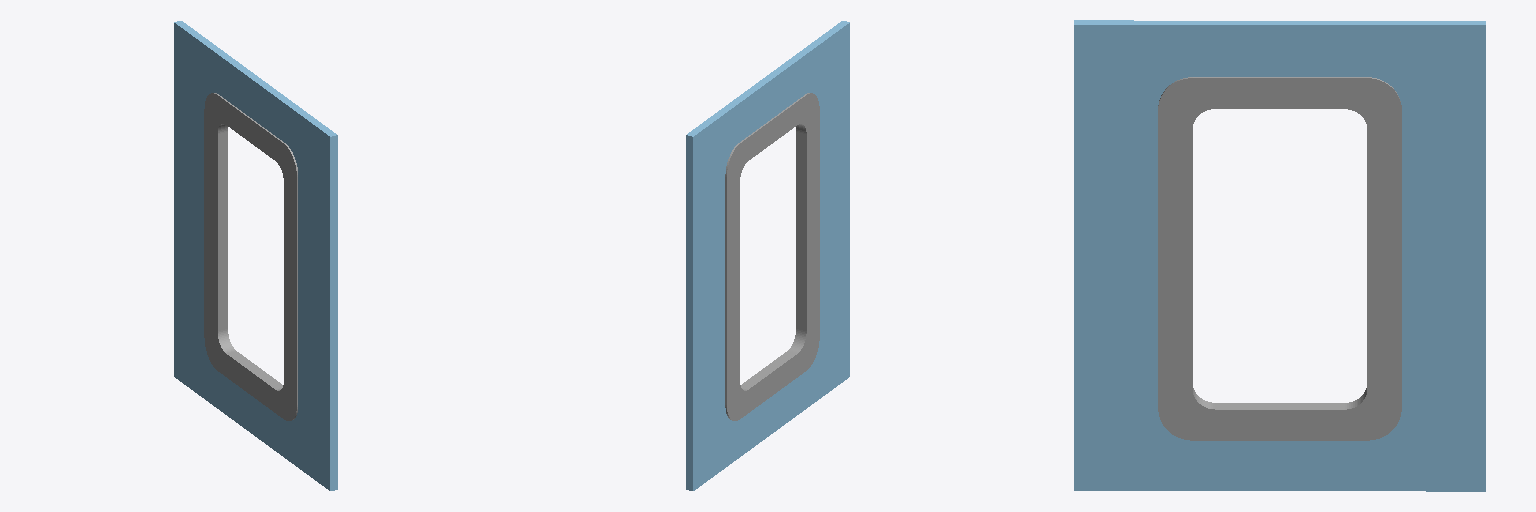
The robot description file, URDF, robot "knee_knocker":
<?xml version="1.0"?>
<robot name="knee_knocker">

  <!-- Materials -->
  <material name="gray">
    <color rgba="0.498 0.498 0.498 1"/>
  </material>
  <material name="lightblue">
    <color rgba="0.6157 0.8118 0.9294 1"/>
  </material>
  <material name="transparent_gray">
    <color rgba="0.7 0.7 0.7 0.3"/>
  </material>
  <material name="transparent_blue">
    <color rgba="0.0 0.0 1.0 0.3"/>
  </material>

  <!-- Root link -->
  <link name="world"/>

  <!-- Door body -->
  <link name="navy_door_765x1450">

    <!-- Visual meshes -->
    <visual>
      <origin xyz="0 0 0" rpy="0 0 1.57"/>
      <geometry>
        <mesh filename="meshes/navy_door_765x1450_0.obj"/>
      </geometry>
      <material name="lightblue"/>
    </visual>

    <visual>
      <origin xyz="0 0 0" rpy="0 0 1.57"/>
      <geometry>
        <mesh filename="meshes/navy_door_765x1450_1.obj"/>
      </geometry>
      <material name="transparent_gray"/>
    </visual>

  </link>

  <!-- Fixed joint to world -->
  <joint name="door_fixed" type="fixed">
    <parent link="world"/>
    <child link="navy_door_765x1450"/>
    <origin xyz="0.34 0.05 0" rpy="0 0 0"/>
  </joint>

</robot>

--- What the picture shows (computed from the rendered views, not written in the file) ---
Views: 3 orthographic renders of the robot side by side, from view 1: azimuth 30°, elevation 25°; view 2: azimuth 150°, elevation 25°; view 3: azimuth 270°, elevation 25°.
Model knee_knocker with 2 links and 1 joints (1 fixed), rooted at world, posed every joint at zero.
Links seen in each view (by area): view 1: navy_door_765x1450; view 2: navy_door_765x1450; view 3: navy_door_765x1450.
Boxes of the visible links, bbox=[...] form: navy_door_765x1450: bbox=[174, 21, 337, 490]; navy_door_765x1450: bbox=[686, 21, 849, 490]; navy_door_765x1450: bbox=[1074, 20, 1485, 491].
Size in the robot's own frame: 0.0708 by 1.8 by 2.25 metres.
2 mesh visuals loaded from 2 distinct referenced files (2 OBJ).
